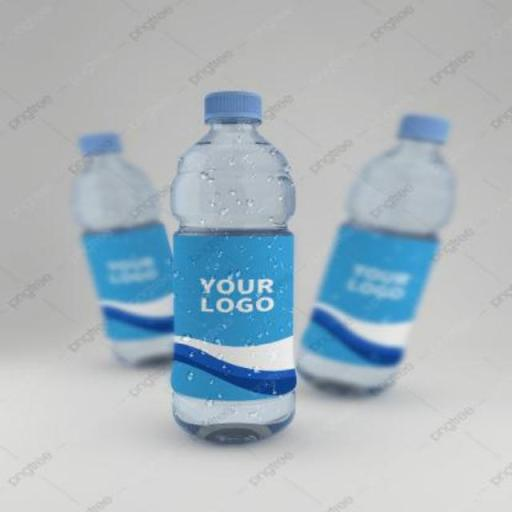Coca: (289, 104, 466, 410), (163, 81, 306, 452), (56, 124, 211, 376)
